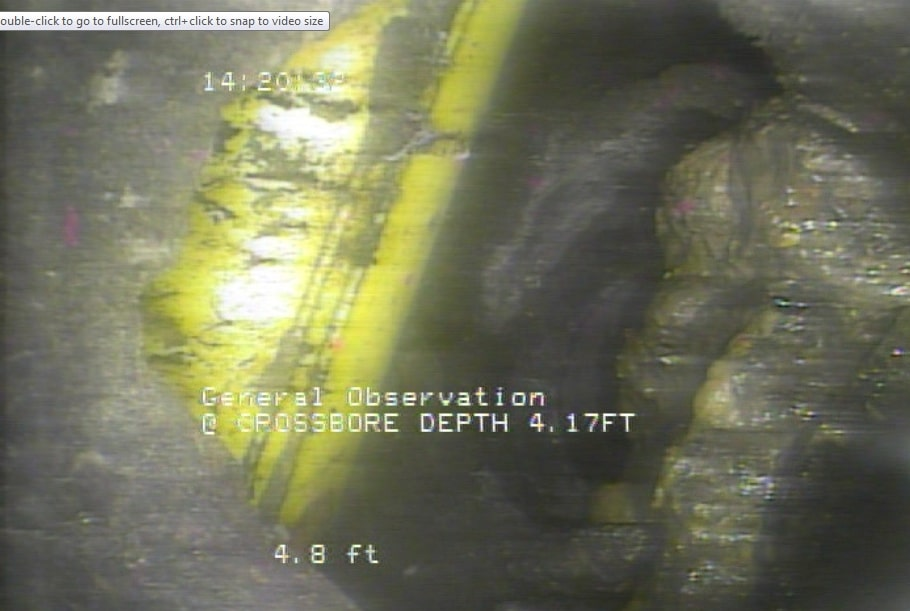cb: (153, 7, 567, 562)
